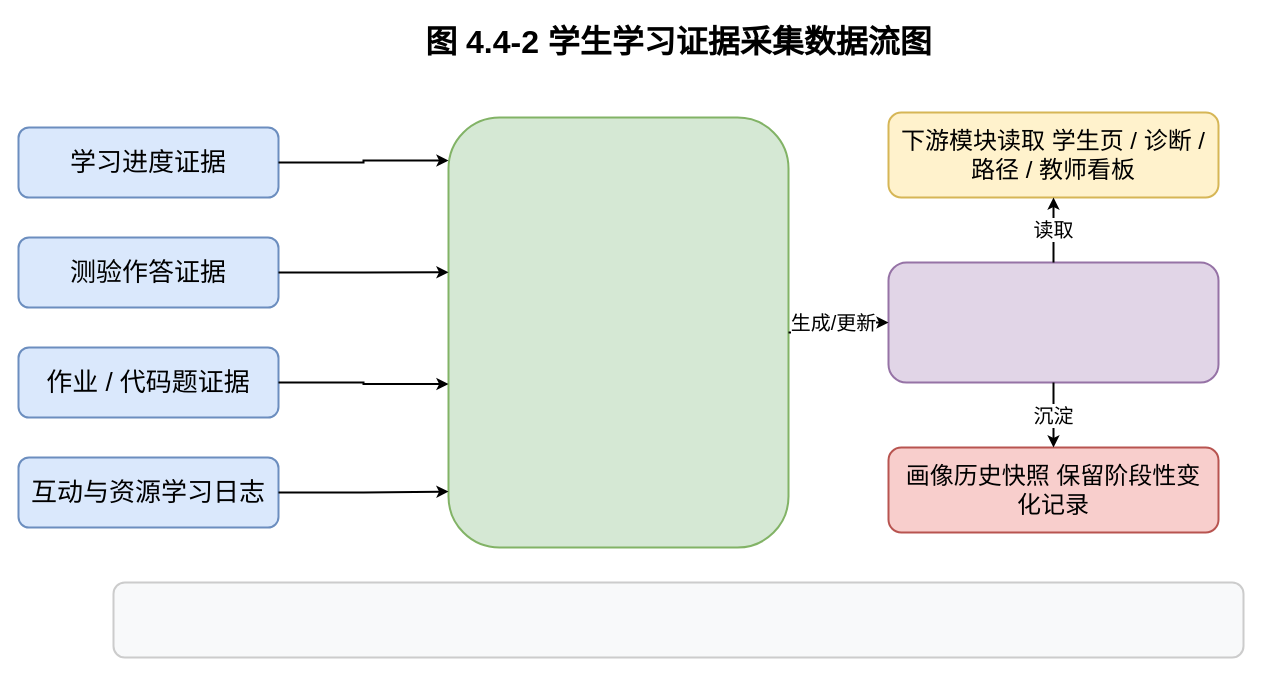
This 1261x675 diagram has some shape labels left out. Each missing label, with the centre of its shape:
"学生画像节点 掌握度 / 实践能力 / 趋势" belongs at pixel 1053 322.
"证据采集器 按学生、课程、知识点归一化 并标记证据质量" belongs at pixel 618 332.
"说明：采集器只做证据归一化和质量标记；画像节点形成可读取状态；诊断原因和建议动作由诊断智能体生成。" belongs at pixel 678 619.
